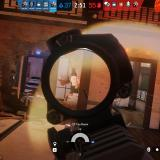Character: (111, 98, 123, 114)
